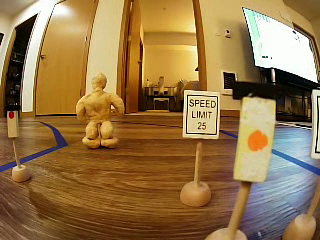Red traffic light: (1, 100, 26, 143)
person: (70, 61, 127, 154)
speed limit 25: (177, 84, 223, 143)
yellow traffic light: (229, 77, 285, 187)
